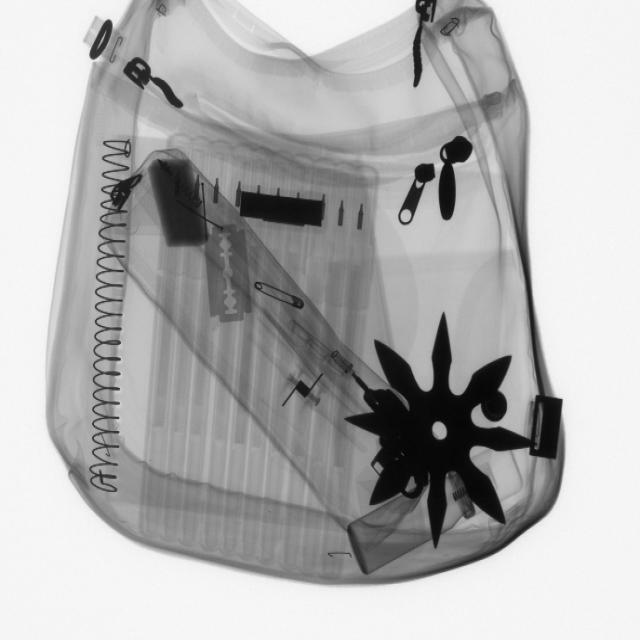BLADE: (199, 210, 260, 330)
SHURIKEN: (351, 314, 532, 555)
